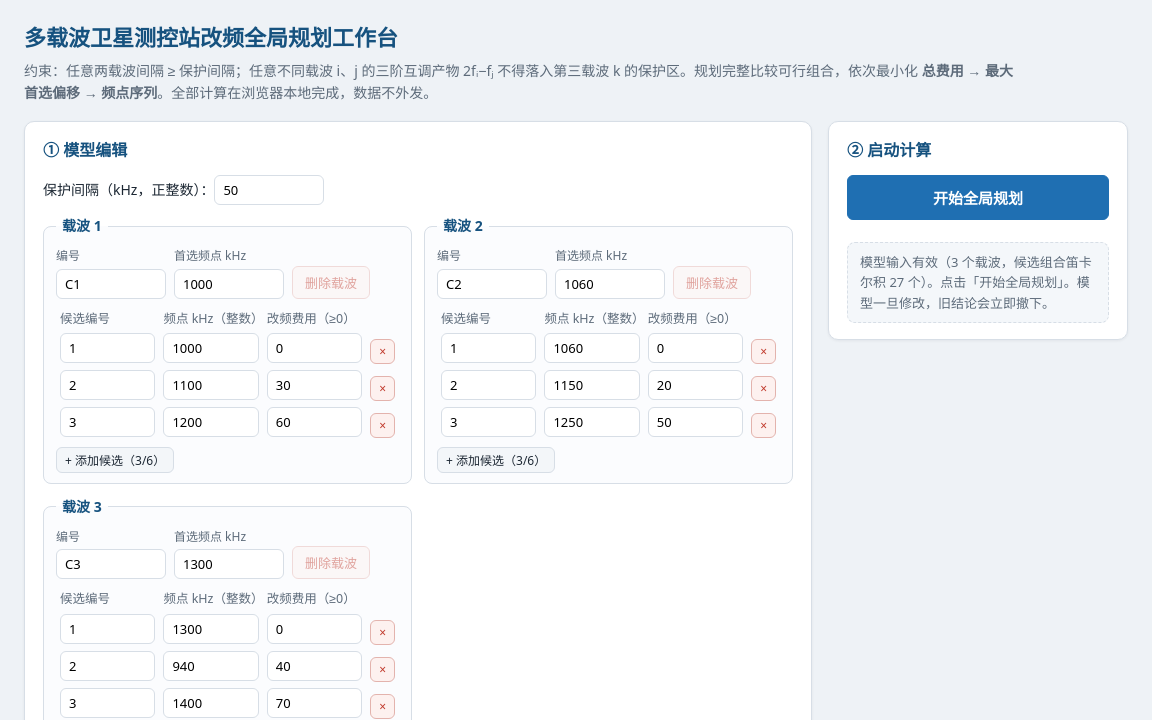
it: 工作台交互流程 › 启动计算后展示全局最优与逐项核对信息
Click the button "开始全局规划" at (978,198), box [847,175,1109,220]
(page scrolled)
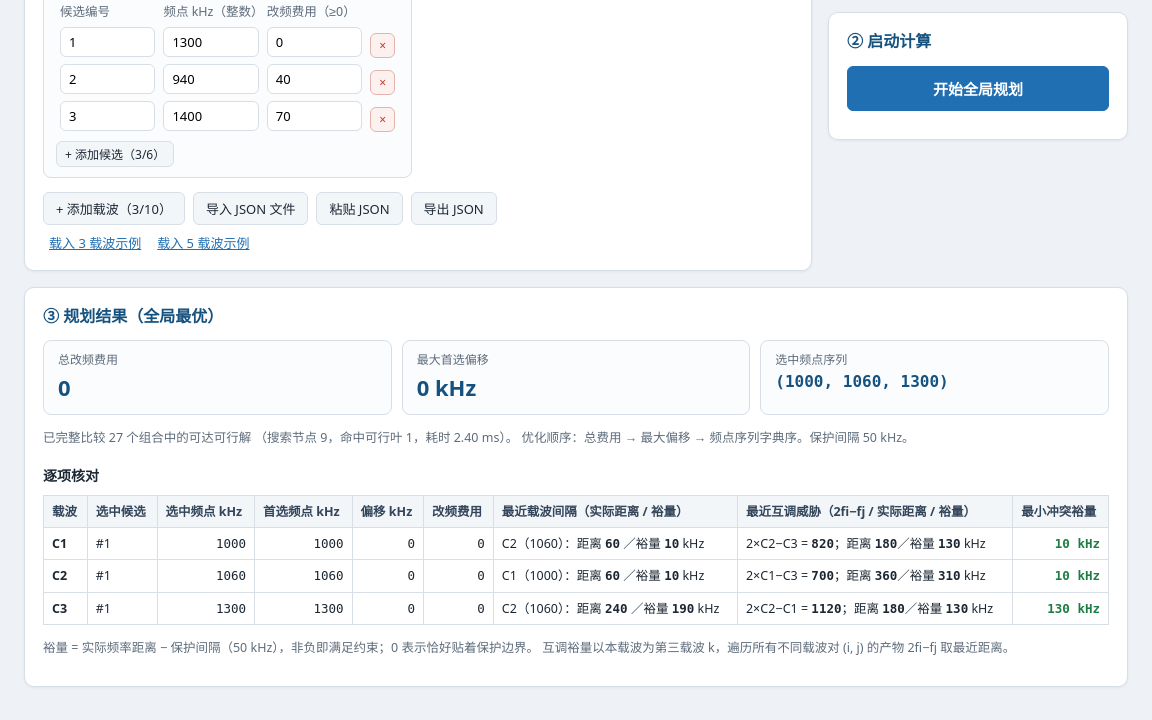
Now the heading "③ 规划结果（全局最优）" is shown, box [43,305,223,327]
Now the text "总改频费用" is shown, box [58,351,118,368]
Now the text "最大首选偏移" is shown, box [417,351,489,368]
